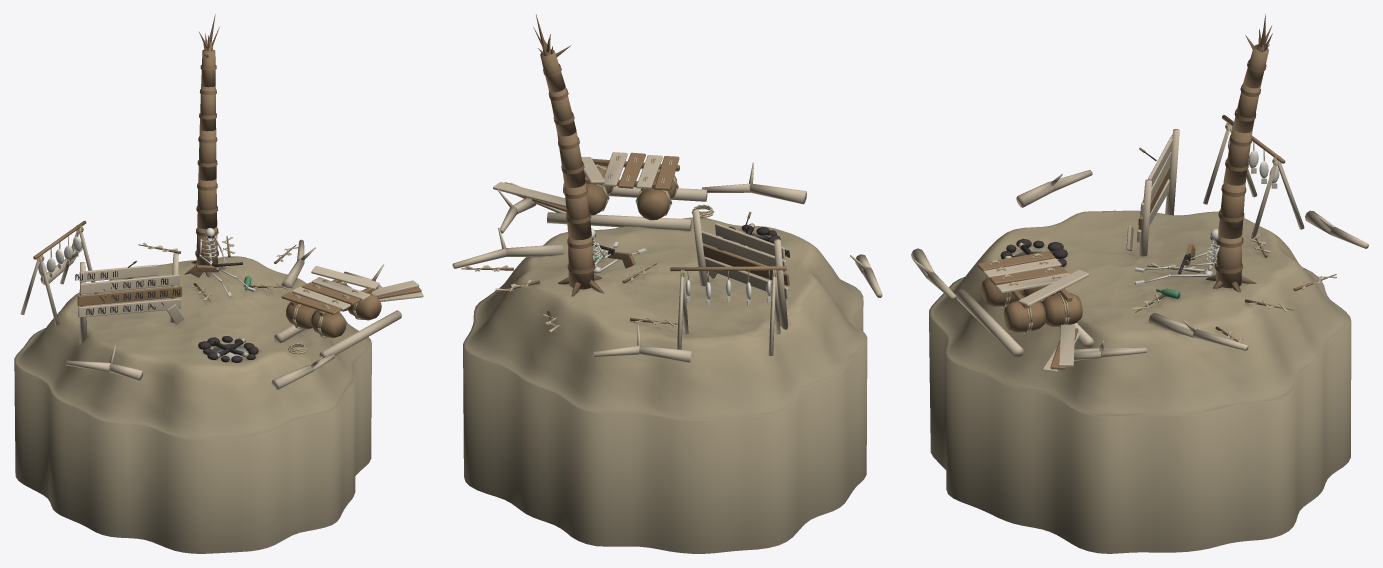
File: castaway_camp.5722035d.glb
3 renders of one model, left to right at view 1: azimuth 30°, elevation 25°; view 2: azimuth 150°, elevation 25°; view 3: azimuth 270°, elevation 25°, orthographic. The views are drawn at different scales.
Parts seen in each view (by area): view 1: castaway_camp; view 2: castaway_camp; view 3: castaway_camp.
Part boxes in pixels (bbox=[...]): castaway_camp: bbox=[14, 14, 423, 553]; castaway_camp: bbox=[452, 14, 882, 553]; castaway_camp: bbox=[911, 14, 1368, 553].
Size of the model in its own units: 7.49 by 8.59 by 7.28.
